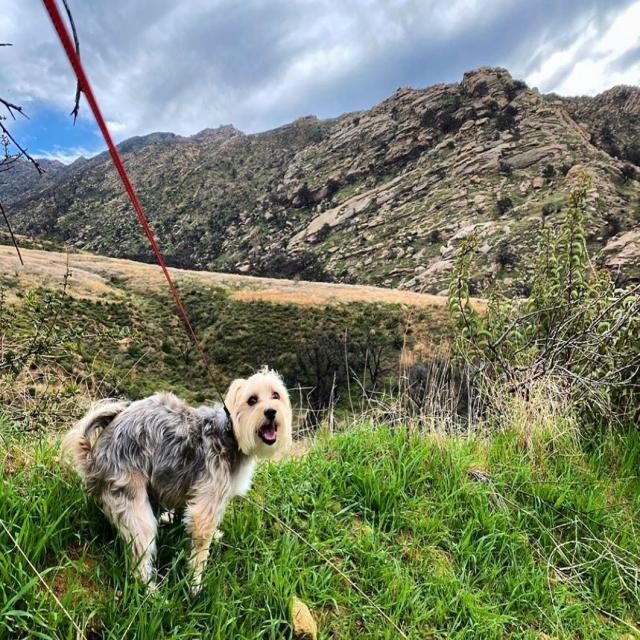squatting: (59, 358, 301, 604)
